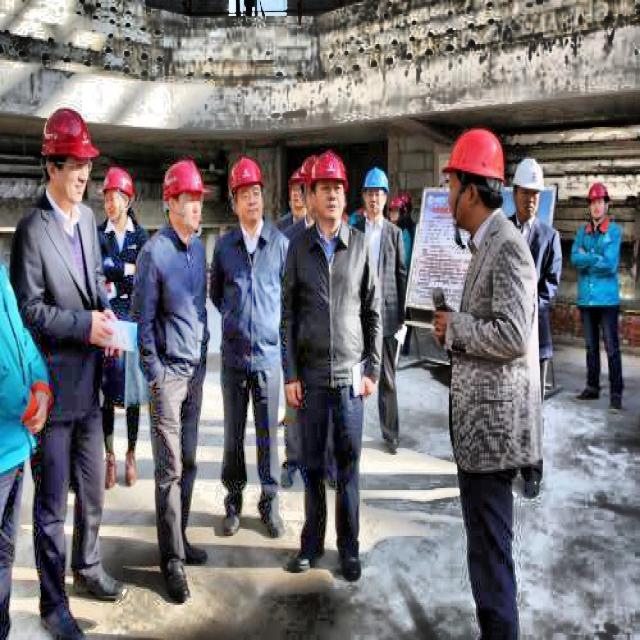helmet: (442, 123, 508, 231), (40, 106, 97, 199), (162, 157, 208, 238), (305, 146, 348, 224), (226, 155, 268, 228), (509, 154, 546, 220), (99, 166, 137, 226), (359, 160, 392, 217), (288, 161, 308, 222), (588, 180, 610, 224)
